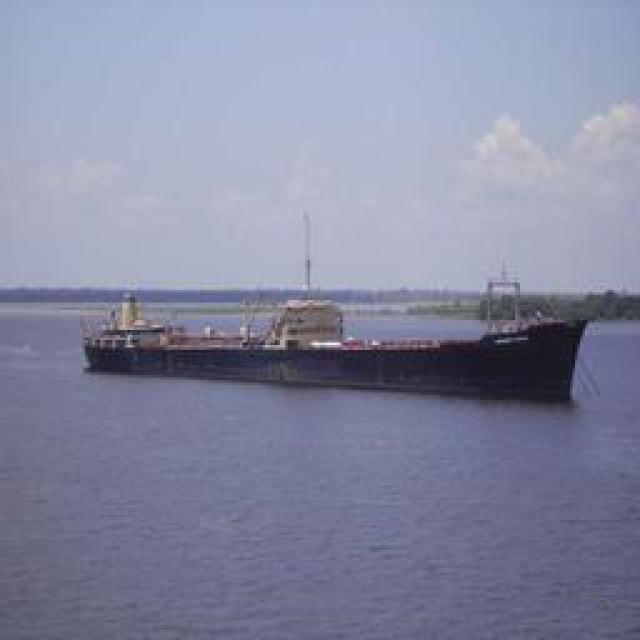Ship: (89, 302, 584, 395)
